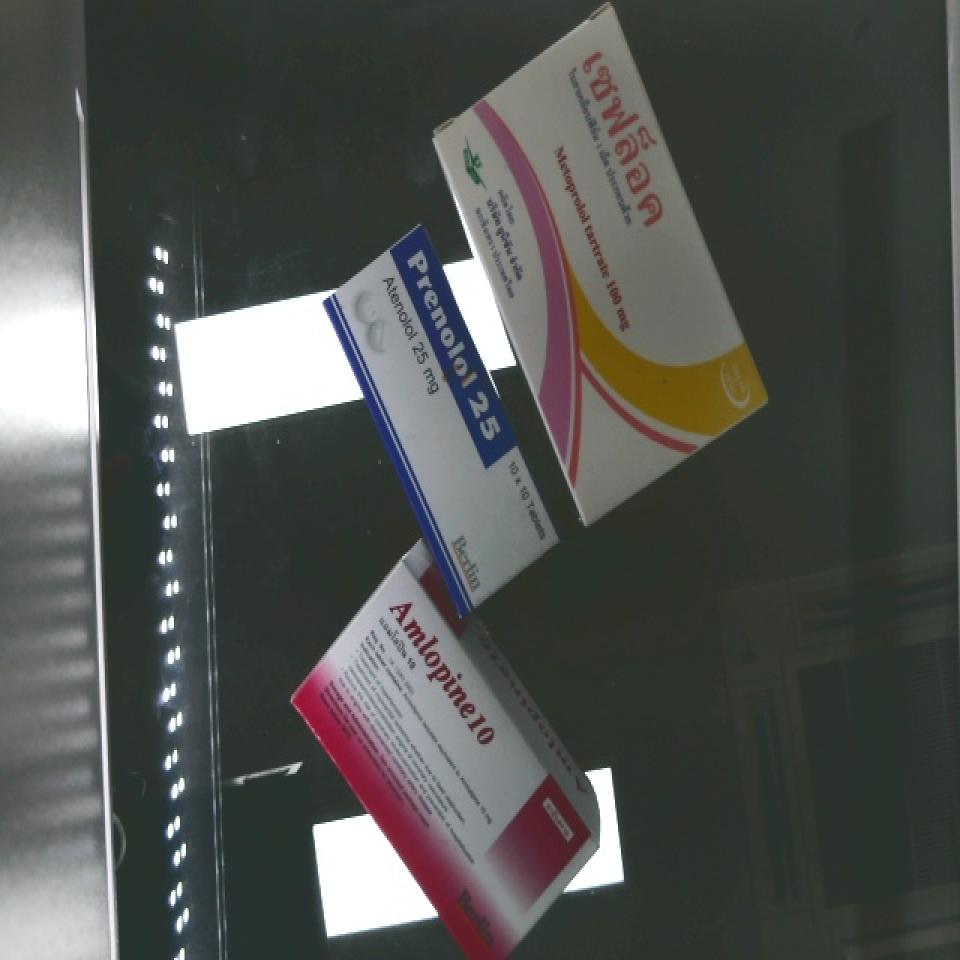medicine_box: (406, 7, 789, 525), (251, 540, 625, 960), (313, 225, 570, 616)
medicine_label_obb: (360, 560, 528, 776), (553, 19, 697, 265), (384, 224, 524, 471)
